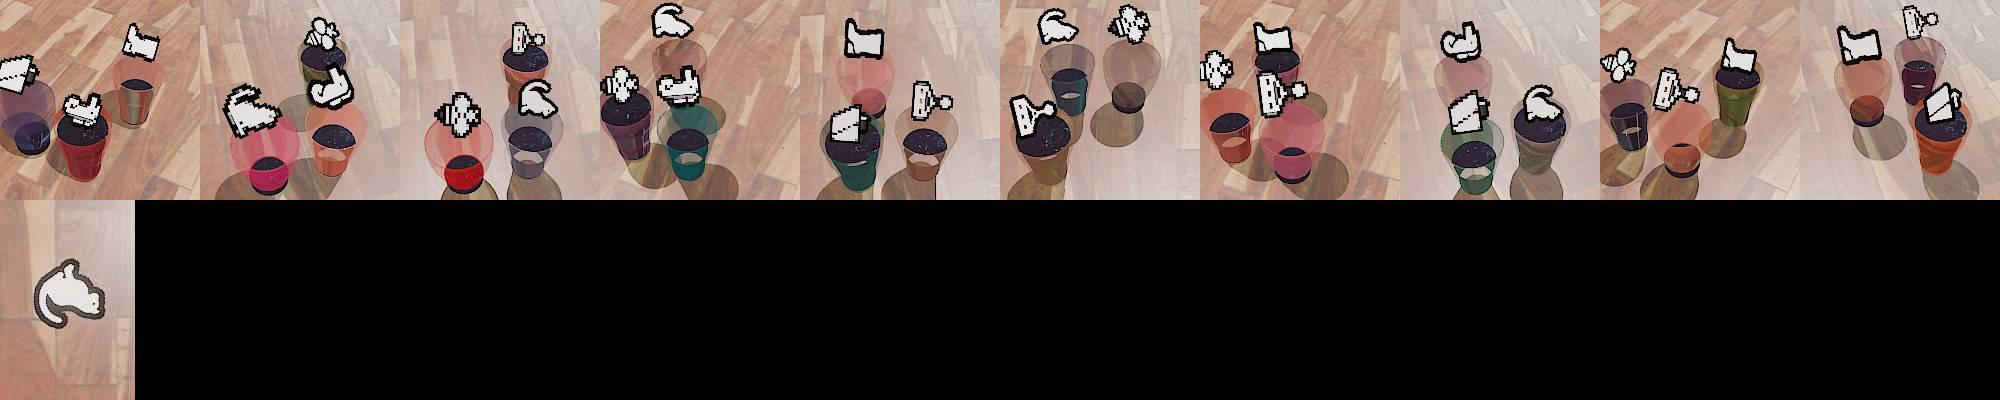icon: (33, 258, 106, 329), (222, 82, 283, 138), (1256, 71, 1310, 119), (1008, 92, 1057, 142), (435, 90, 484, 138), (307, 62, 354, 110), (1653, 66, 1701, 111), (1446, 89, 1491, 133), (655, 63, 702, 105), (1837, 24, 1882, 65), (1520, 83, 1566, 123), (1440, 20, 1482, 63), (910, 80, 952, 122), (517, 78, 560, 119), (1107, 4, 1151, 44), (827, 103, 871, 143), (843, 17, 884, 59), (61, 90, 103, 130), (600, 64, 643, 103), (1923, 80, 1960, 124), (121, 22, 161, 62), (0, 53, 40, 93), (1036, 7, 1077, 46), (651, 2, 694, 39), (301, 16, 342, 54), (1720, 38, 1760, 76), (1199, 49, 1234, 91), (1253, 21, 1294, 56), (1601, 47, 1638, 84), (511, 19, 548, 55), (1902, 5, 1940, 40)
